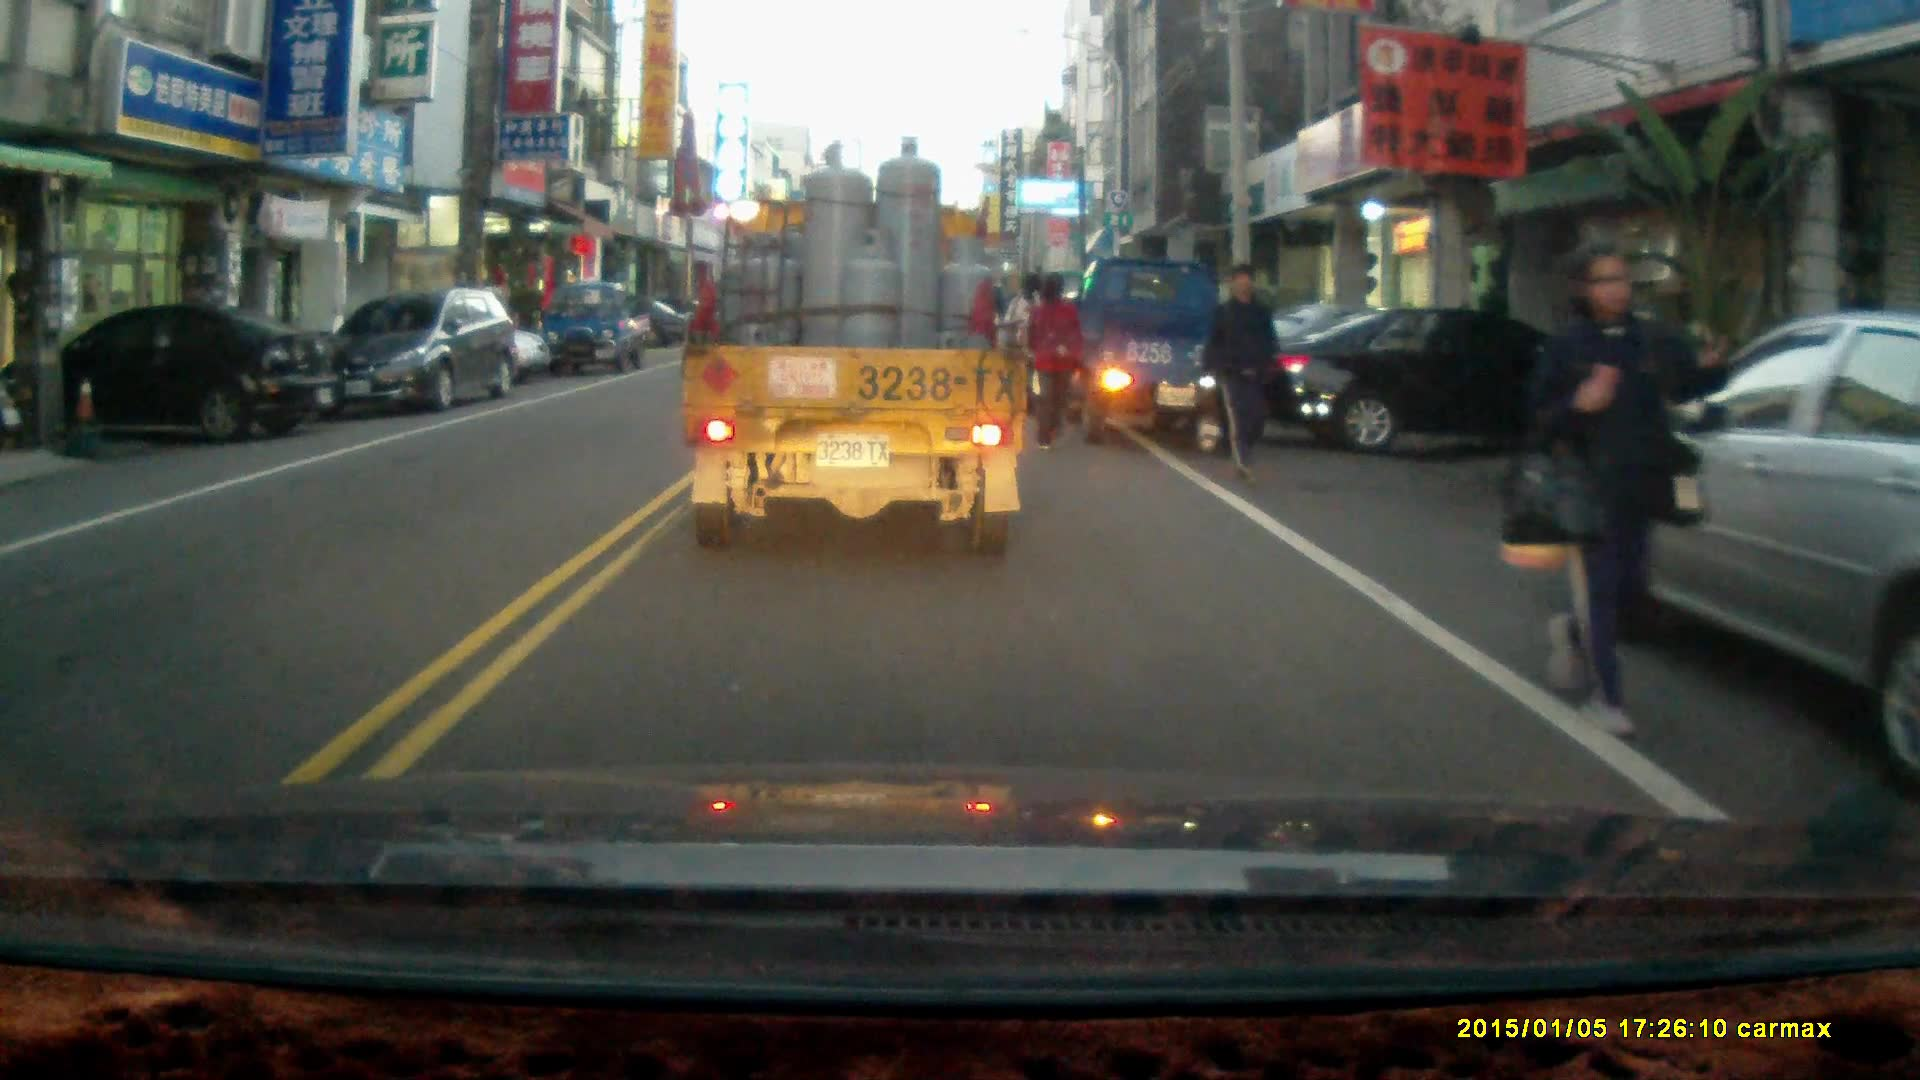pedestrian: (1528, 240, 1727, 736), (1202, 258, 1280, 485), (1023, 270, 1083, 454)
vehicle: (678, 134, 1033, 563), (1559, 309, 1920, 728), (1250, 301, 1590, 475), (1, 302, 343, 447), (1070, 258, 1284, 456), (315, 290, 527, 419), (541, 278, 653, 376)
